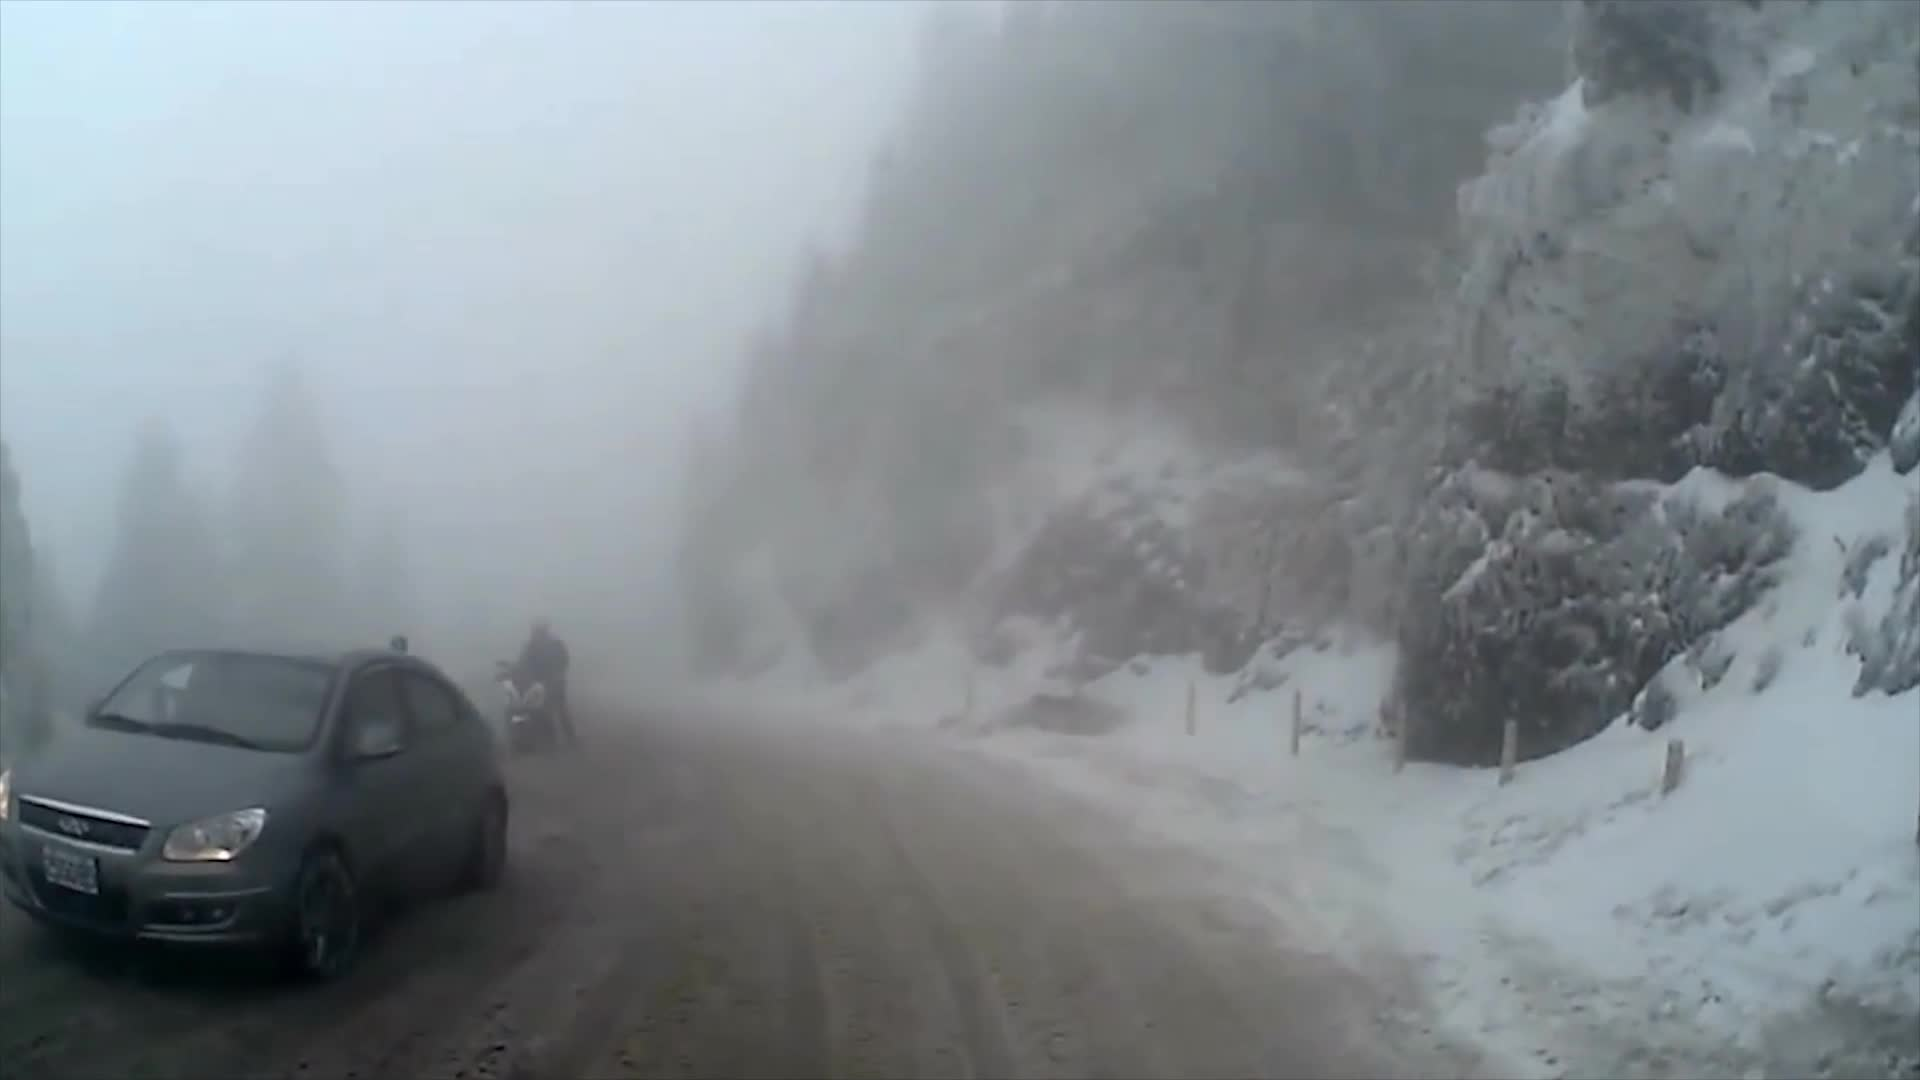pedestrian: (510, 616, 581, 741)
vehicle: (0, 639, 513, 1001)
